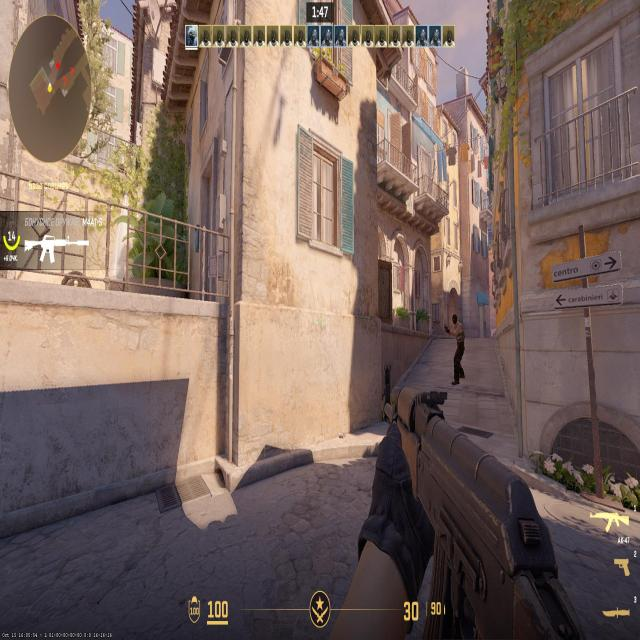T: (453, 314, 464, 386)
T_heat: (454, 316, 457, 323)
